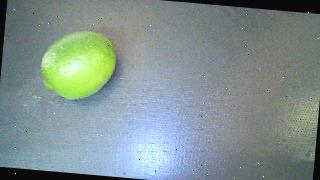EXPORTACION: (39, 27, 119, 103)
